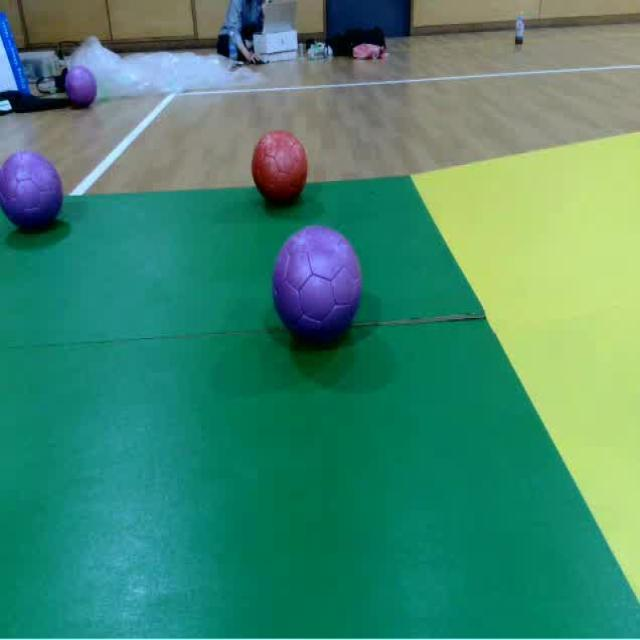purple_ball: (269, 223, 366, 347), (0, 151, 62, 235), (66, 67, 95, 109)
red_ball: (250, 128, 313, 199)
